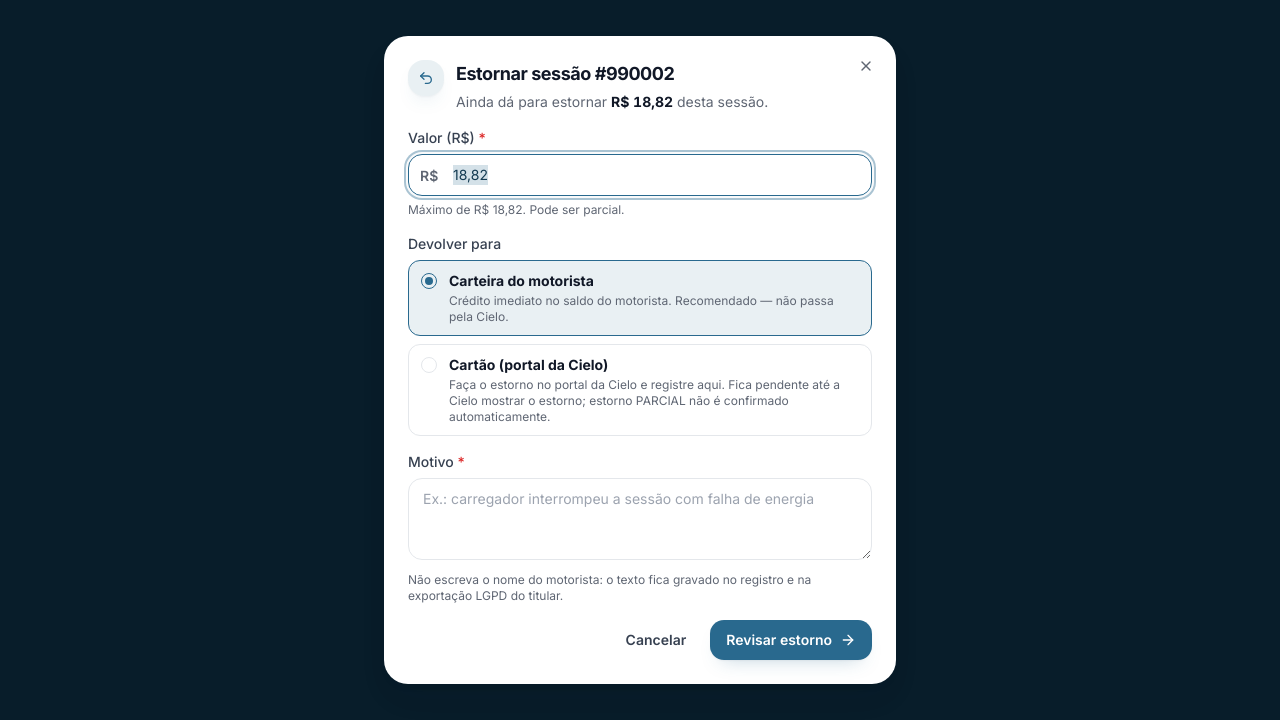
Scenario: RefundFormDialog › senha errada (403) fica no campo da confirmação, com o diálogo aberto e o campo zerado
This screenshot has width=1280, height=720.
Replace the text in the field labelled "Valor (R$) *" with "5,00" at (640, 175), box x1=408 y1=154 x2=872 y2=196
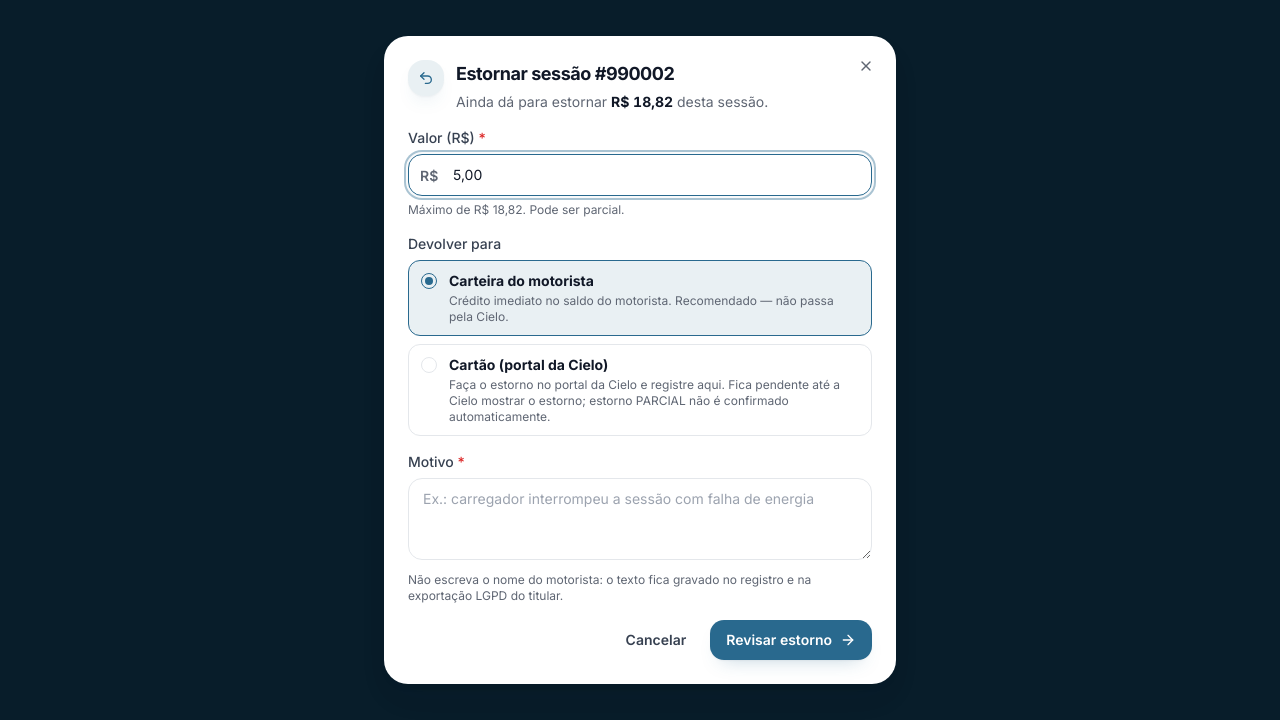
Type "Cortesia por demora no atendimento" into the text box labelled "Motivo *" at (640, 519), box x1=408 y1=478 x2=872 y2=560
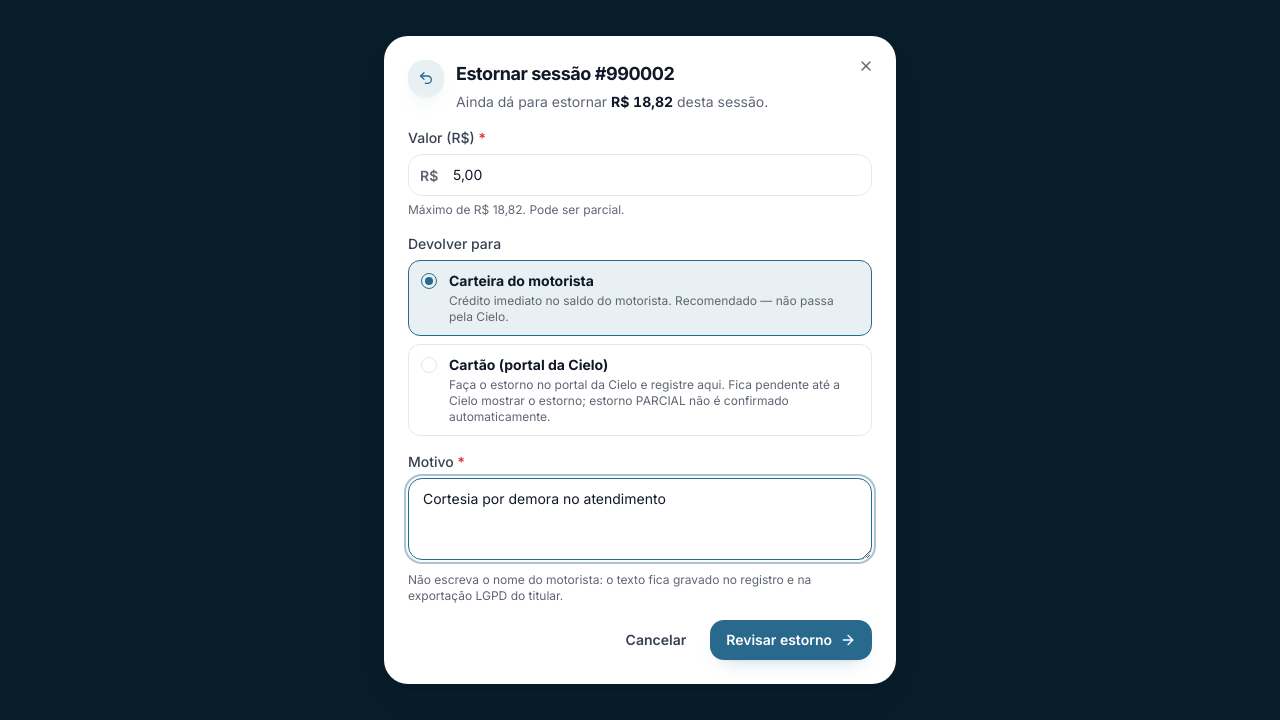
Click the button "Revisar estorno" at (791, 640), box x1=710 y1=620 x2=872 y2=660
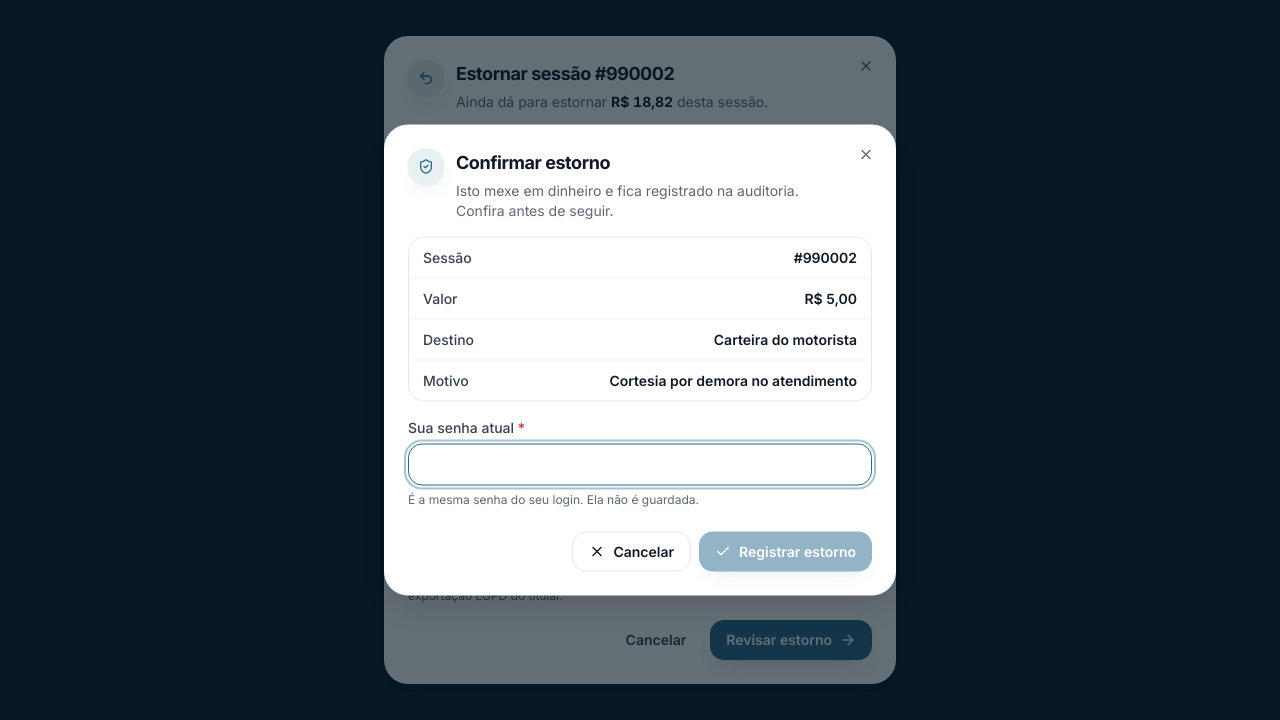
Type "errada" into the password field labelled "Sua senha atual *" at (640, 464), box x1=408 y1=444 x2=872 y2=486
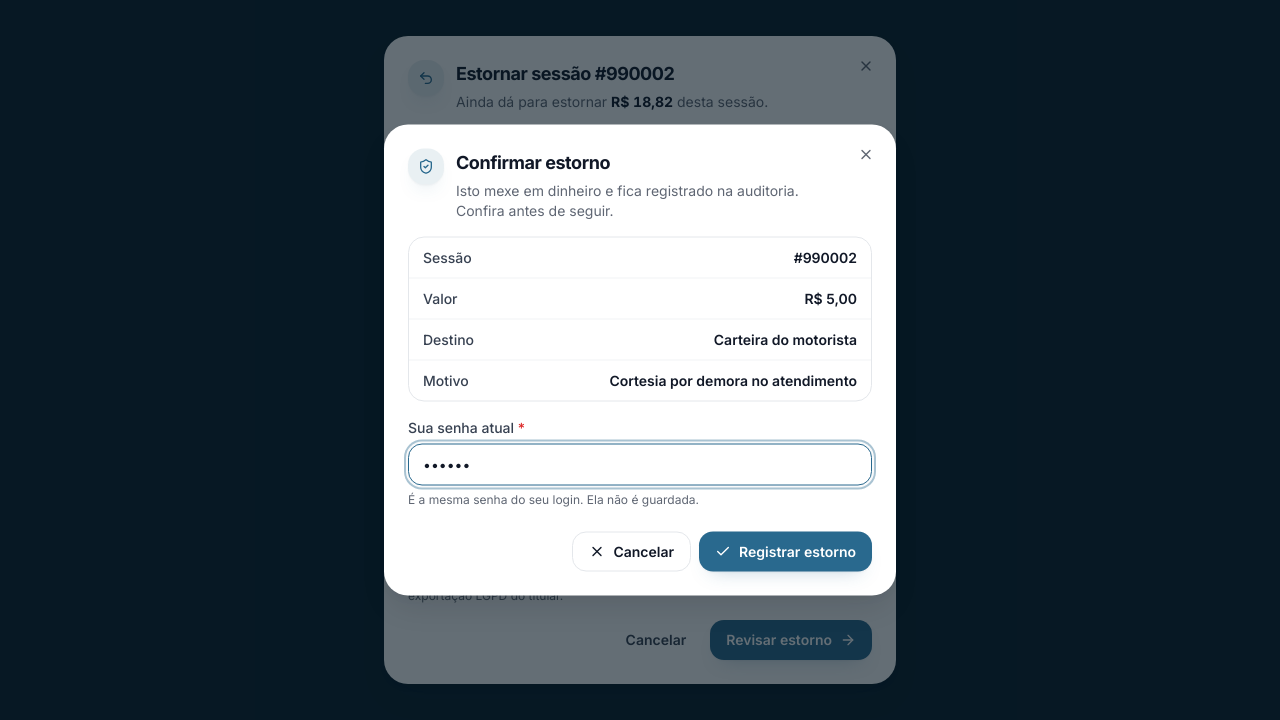
Click the button "Registrar estorno" at (786, 552), box x1=699 y1=532 x2=872 y2=572
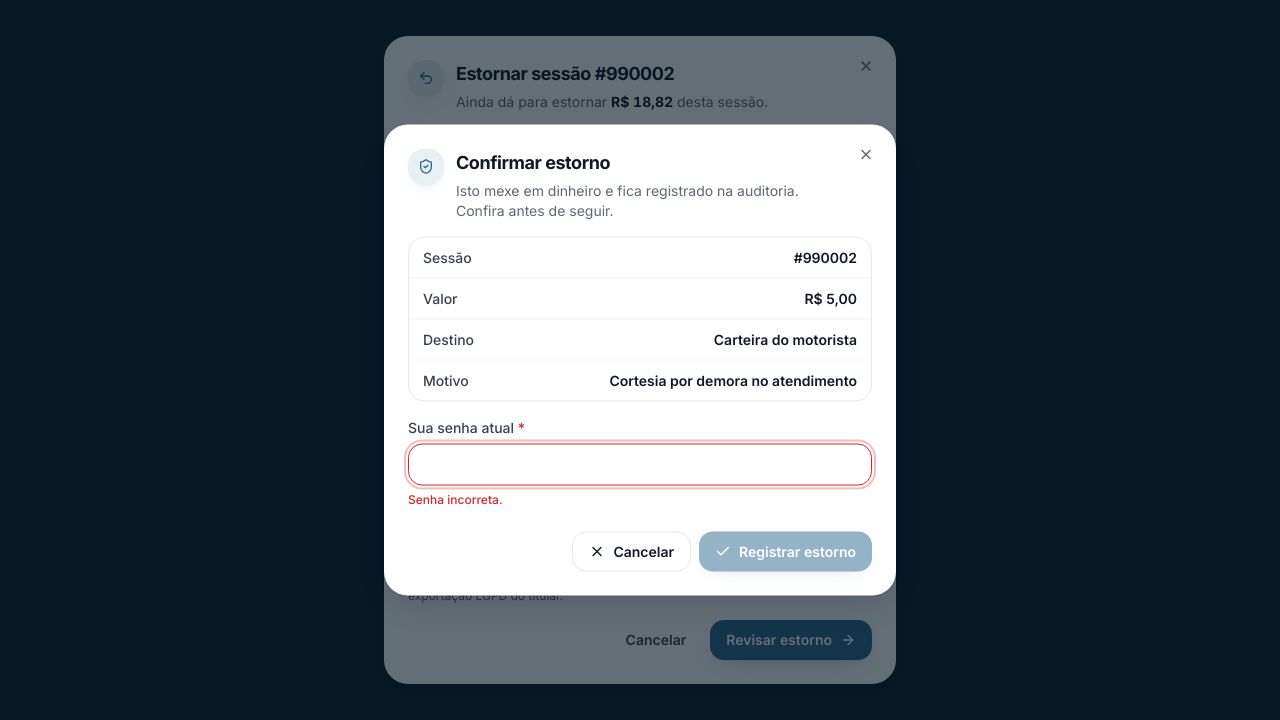
expect the text "Senha incorreta." is shown: met, box x1=408 y1=492 x2=502 y2=506
expect the password field labelled "Sua senha atual *" is empty: met, box x1=408 y1=444 x2=872 y2=486
